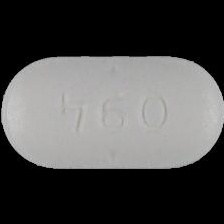42291-258: (0, 0, 224, 224)
